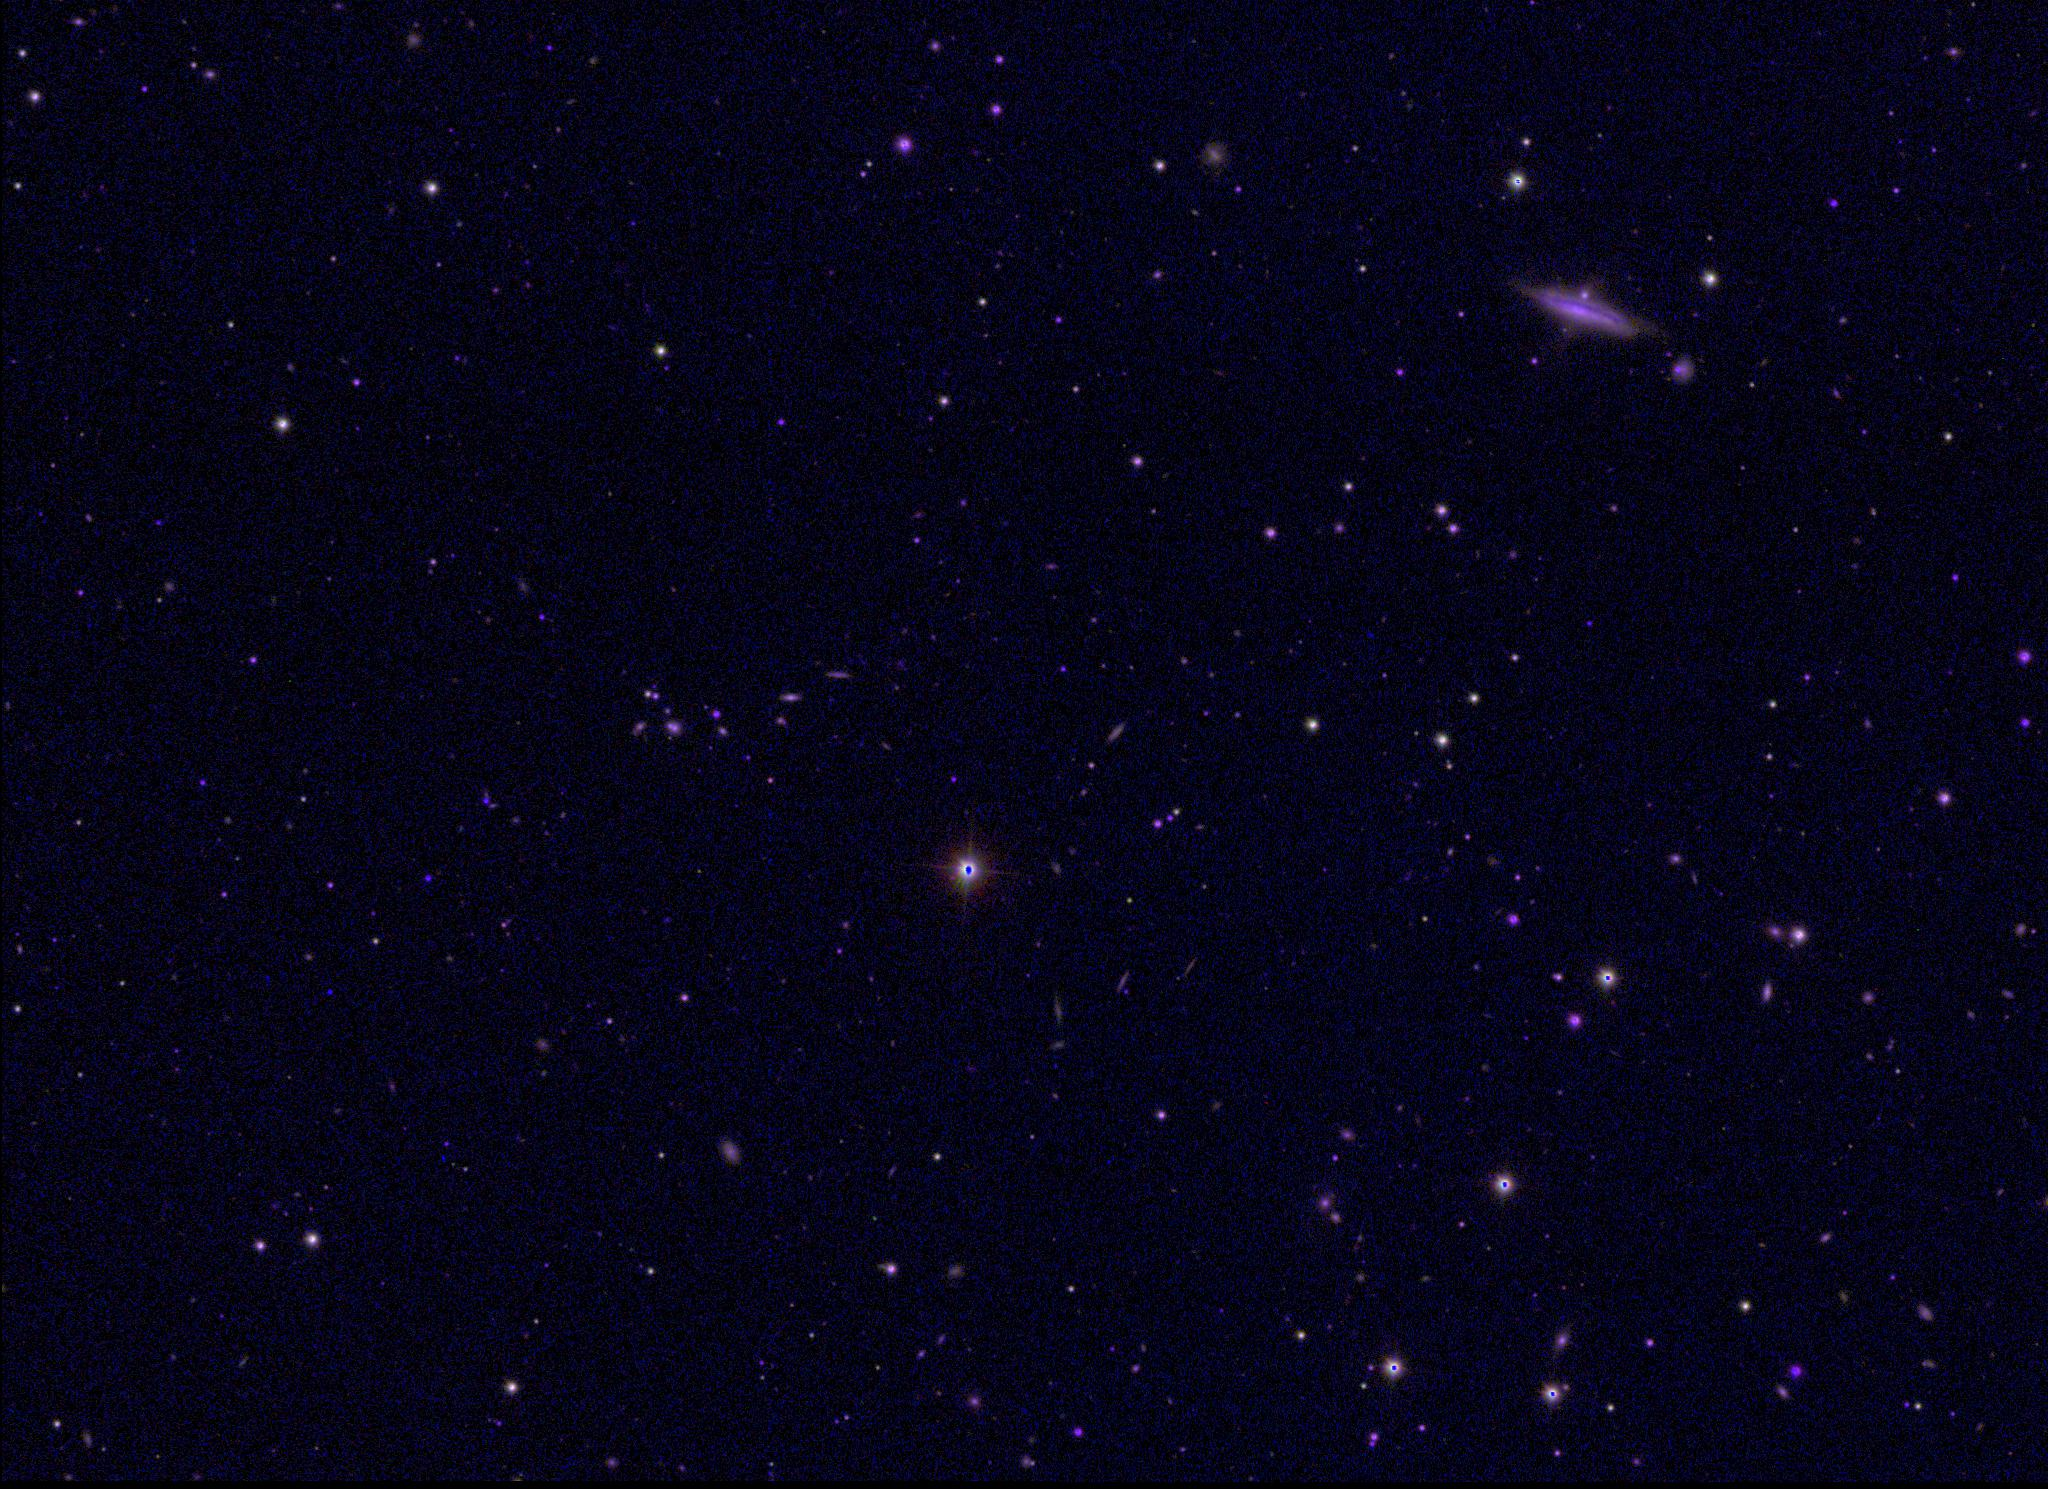L: (324, 986, 339, 1001)
